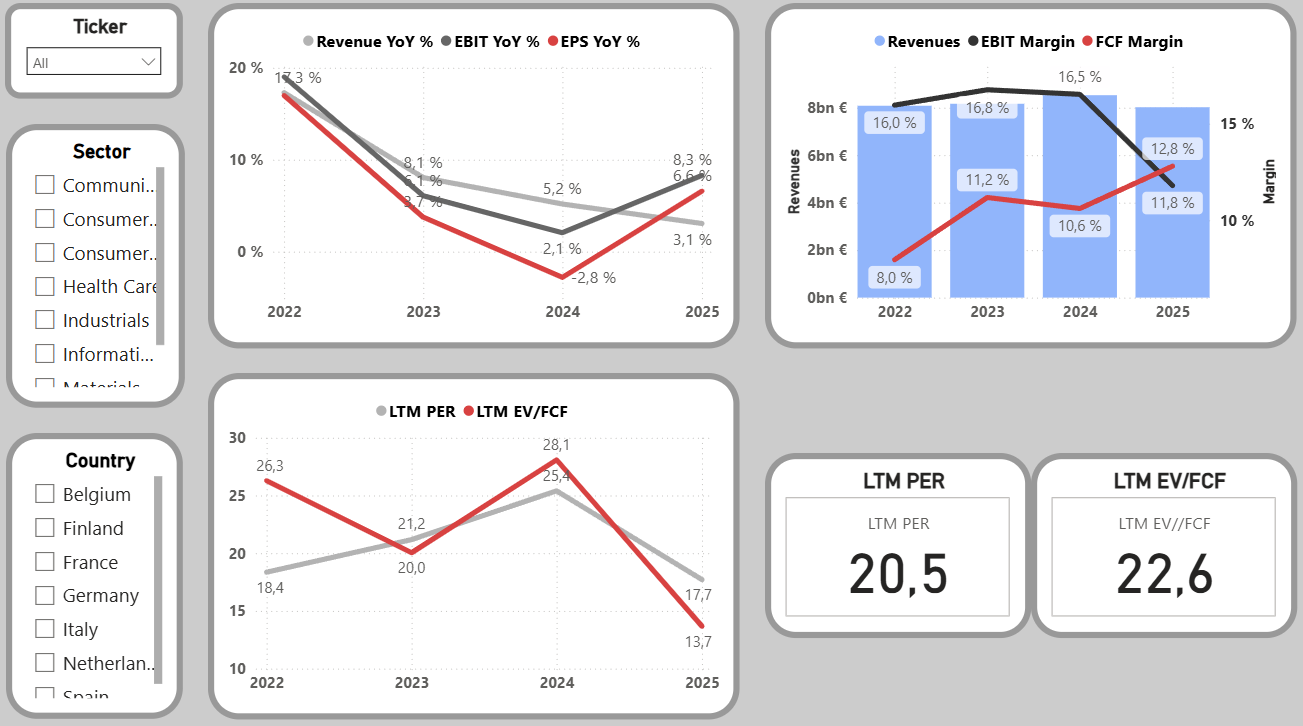

This screenshot's page, from the dashboard's own definition file:
{"tool":"powerbi","page":{"name":"Growth & Margins","canvas":[1280,720],"ordinal":0},"visuals":[{"type":"lineChart","fields":{"Category":["vw_equity_analytics.fiscal_date.Variation.Date Hierarchy.Year"],"Y":["Median(vw_equity_analytics.revenue_yoy)","Median(vw_equity_analytics.ebit_yoy)","Median(vw_equity_analytics.eps_yoy)","select"]},"box":[209.1,11.7,517.4,335.6],"z":1000},{"type":"lineChart","fields":{"Category":["vw_equity_analytics.fiscal_date.Variation.Date Hierarchy.Year"],"Y":["Median(vw_equity_analytics.per_hist)","Median(vw_equity_analytics.ev_fcf_hist)"]},"box":[209.1,371.6,517.4,336.5],"z":3000},{"type":"cardVisual","title":"LTM PER","fields":{"Data":["Median(vw_equity_analytics.per)"]},"box":[750.9,449.4,258.7,179.9],"z":4000},{"type":"cardVisual","title":"LTM EV/FCF","fields":{"Data":["Median(vw_equity_analytics.ev_fcf)"]},"box":[1009.6,449.4,258.7,179.9],"z":5000},{"type":"lineClusteredColumnComboChart","fields":{"Category":["vw_equity_analytics.fiscal_date.Variation.Date Hierarchy.Year"],"Y":["Avg(vw_equity_analytics.total_revenue)"],"Y2":["Avg(vw_equity_analytics.ebit_margin)","Avg(vw_equity_analytics.fcf_margin)"]},"box":[750.9,11.7,517.4,335.6],"z":6000},{"type":"slicer","title":"Sector","fields":{"Values":["vw_equity_analytics.sector"]},"box":[12.6,129.4,174.1,276.2],"z":6001},{"type":"slicer","title":"Country","fields":{"Values":["vw_equity_analytics.location"]},"box":[12.6,429.9,172.2,278.2],"z":6002},{"type":"slicer","title":"Ticker","fields":{"Values":["vw_equity_analytics.ticker_key"]},"box":[11.7,11.7,173.1,93.4],"z":6003}]}

Visuals, with their boxes in screenshot pixels (x1, y1, x2, y2), scaled from the page's 1280x720 canvas onto the 1303x726 screenshot:
lineChart - vw_equity_analytics.fiscal_date.Variation.Date Hierarchy.Year x Median(vw_equity_analytics.revenue_yoy): locate(213, 12, 740, 350)
lineChart - vw_equity_analytics.fiscal_date.Variation.Date Hierarchy.Year x Median(vw_equity_analytics.per_hist): locate(213, 375, 740, 714)
"LTM PER" cardVisual: locate(764, 453, 1028, 635)
"LTM EV/FCF" cardVisual: locate(1028, 453, 1291, 635)
lineClusteredColumnComboChart - vw_equity_analytics.fiscal_date.Variation.Date Hierarchy.Year x Avg(vw_equity_analytics.total_revenue): locate(764, 12, 1291, 350)
"Sector" slicer: locate(13, 130, 190, 409)
"Country" slicer: locate(13, 433, 188, 714)
"Ticker" slicer: locate(12, 12, 188, 106)
